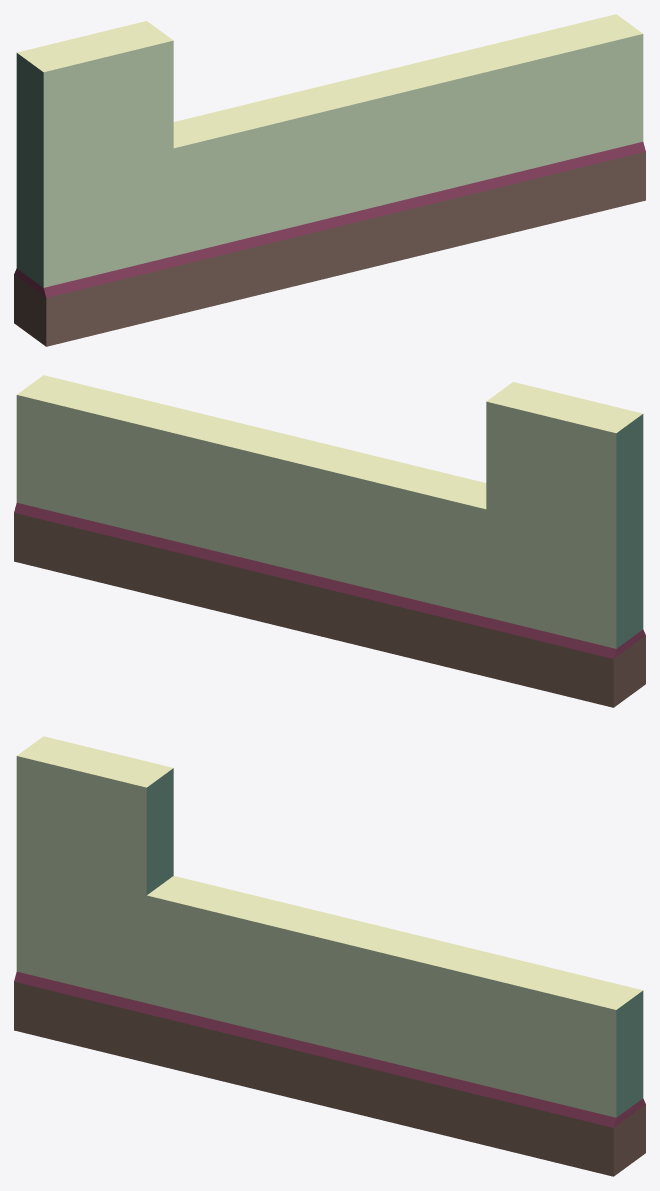
The model's file is Wall_03.fbx.
3 views of the same model, one above another, from view 1: azimuth 30°, elevation 25°; view 2: azimuth 150°, elevation 25°; view 3: azimuth 330°, elevation 25° (orthographic).
Parts seen in each view (by area): view 1: Wall_03; view 2: Wall_03; view 3: Wall_03.
Part boxes in pixels (x1,y1,x2,y2): Wall_03: (14, 14, 645, 346); Wall_03: (14, 375, 645, 707); Wall_03: (14, 736, 645, 1176).
Bounding box in the file's own units: 152 × 65.95 × 14.18.
